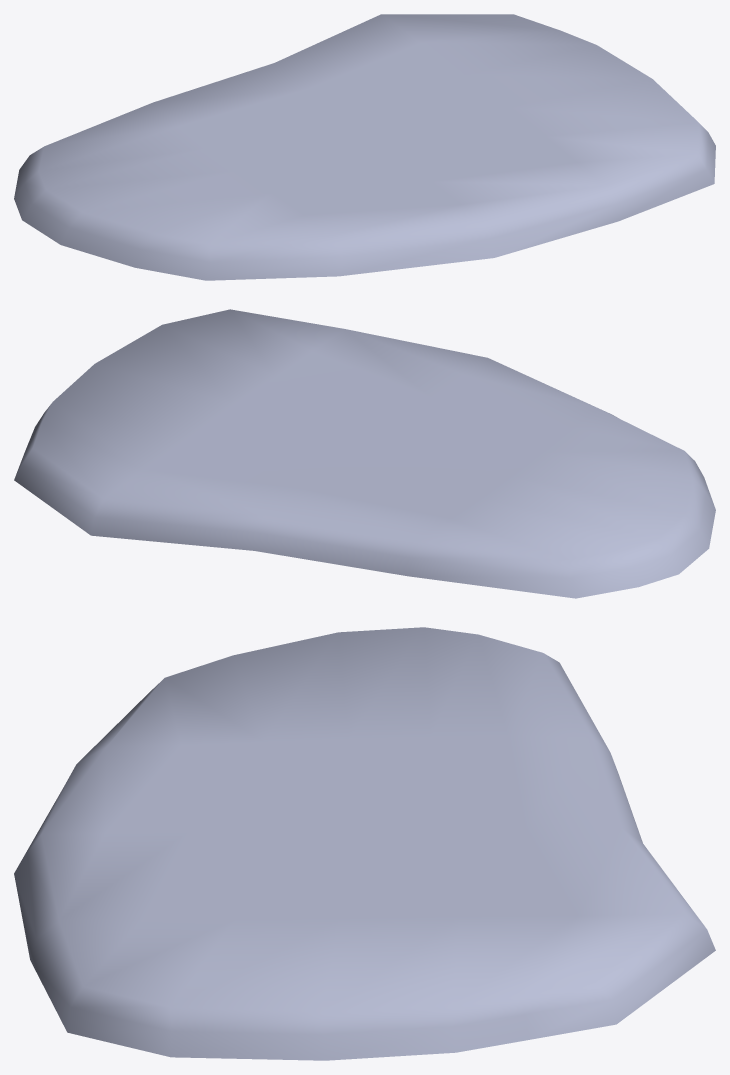
Rendered from Road_Rock_01.fbx.
3 renders of one model, top to bottom at view 1: azimuth 30°, elevation 25°; view 2: azimuth 150°, elevation 25°; view 3: azimuth 270°, elevation 25°, orthographic. The views are drawn at different scales.
Parts seen in each view (by area): view 1: Road_Rock_01; view 2: Road_Rock_01; view 3: Road_Rock_01.
Part boxes in pixels (x1=…): Road_Rock_01: x1=14, y1=14, x2=715, y2=280; Road_Rock_01: x1=14, y1=309, x2=715, y2=598; Road_Rock_01: x1=14, y1=627, x2=715, y2=1060.
Size of the model in its own units: 198 by 10.62 by 144.
